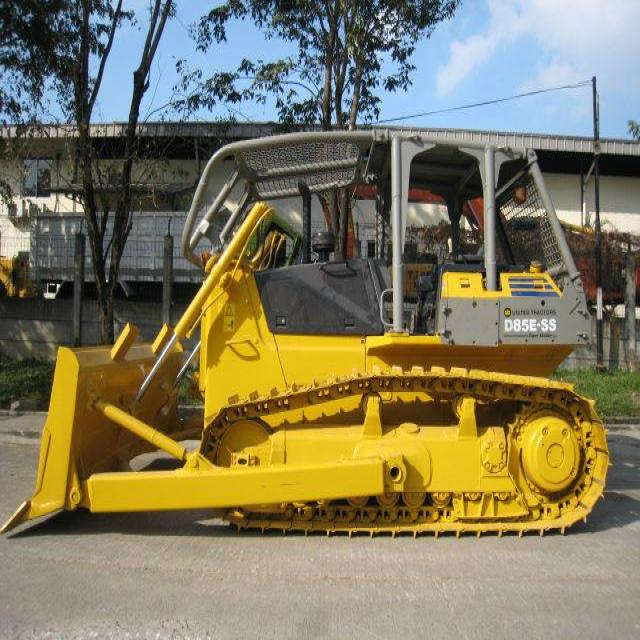buldozerpayloadergrader: (33, 110, 639, 566)
